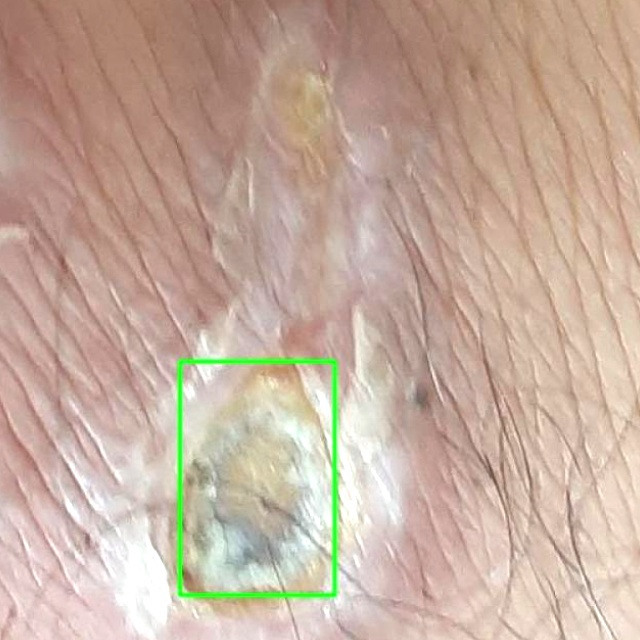Contact Dermatitis: (180, 361, 334, 595)
